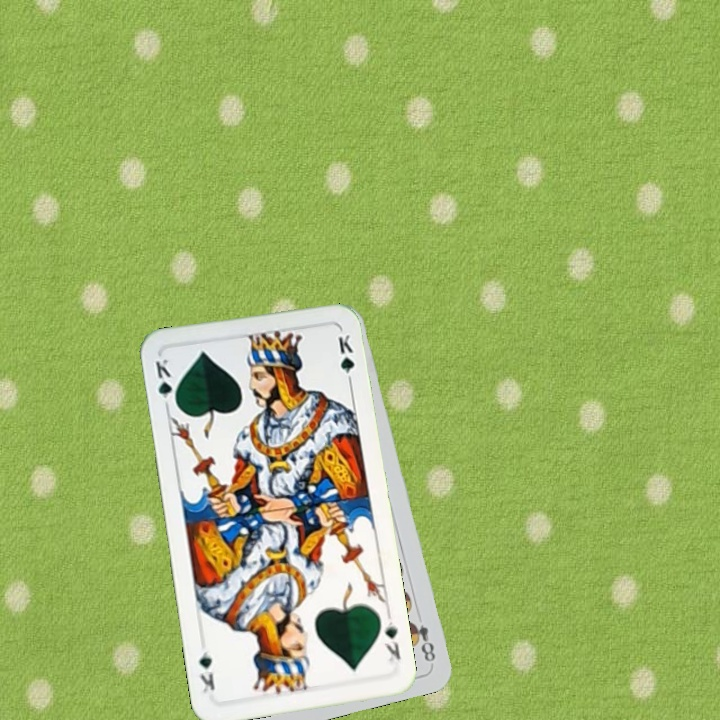E8: (405, 617, 438, 664)
GK: (151, 354, 179, 412), (379, 611, 403, 664)
